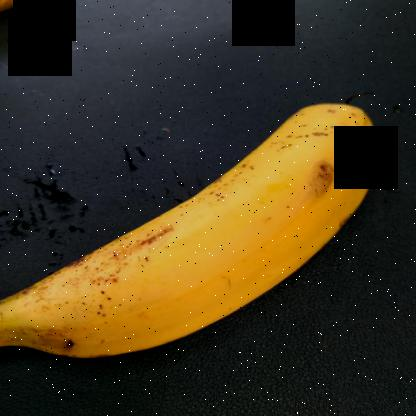ripe: (1, 97, 384, 357)
